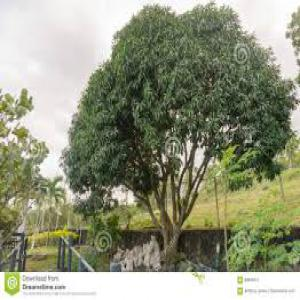Tree: (65, 3, 297, 258)
